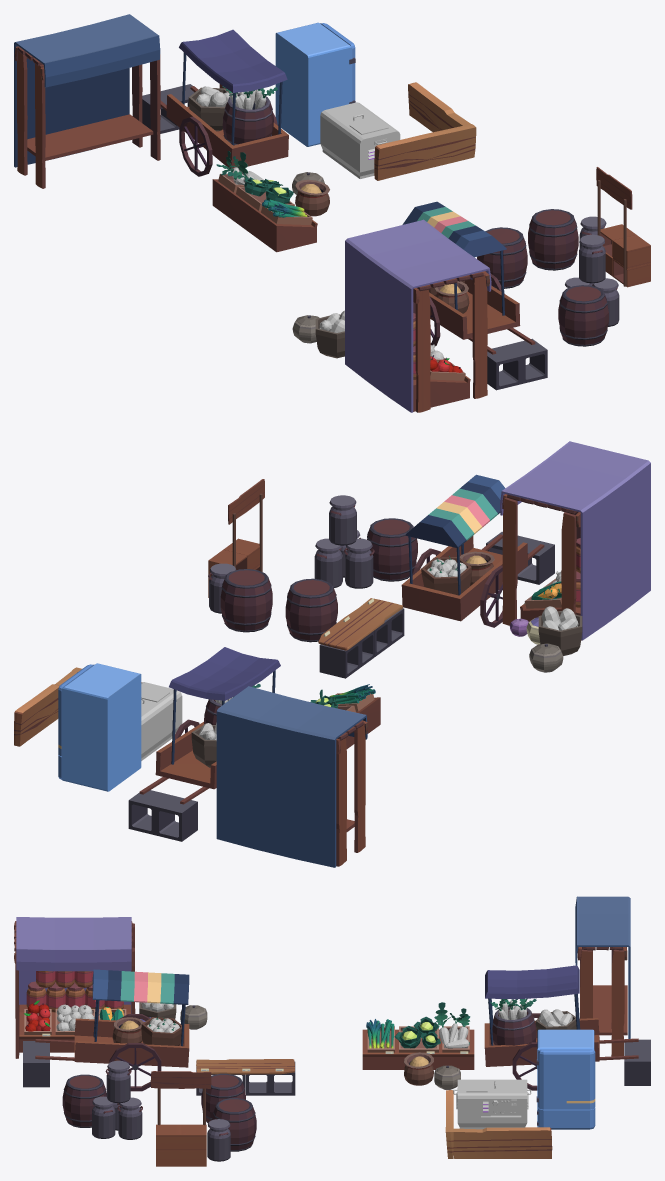
File: DBStandGrossCherie.fbx
The picture shows the model from 3 angles, top to bottom: view 1: azimuth 30°, elevation 25°; view 2: azimuth 150°, elevation 25°; view 3: azimuth 270°, elevation 25°; orthographic projection. The views are drawn at different scales.
Parts seen in each view (by area): view 1: Stand.020, Stand.021, Cube.5082, Awning.117, Wagon.007, MORPROCKS_Generator.009, StoreDisplay, planks.051, CrateStand, Wagon.006, Barrels, Barrels.002 (+15 smaller); view 2: Stand.021, Stand.020, Cube.5082, Wagon.006, planks.049, Awning.118, Awning.117, Barrels.002, Barrels.001, AP_Cinderblock_New.014, Wagon.007, Barrels (+14 smaller); view 3: Stand.020, Stand.021, Wagon.006, MORPROCKS_Generator.009, Cube.5083, CrateStand, Awning.118, planks.050, Awning.117, StoreDisplay, NutButterDisplay, planks.049 (+26 smaller).
Boxes of the visible parts, box(x1,y1,x2,y2) form: Stand.020: box(345, 219, 491, 412); Stand.021: box(14, 14, 160, 188); Cube.5082: box(275, 22, 355, 146); Awning.117: box(179, 29, 287, 145); Wagon.007: box(160, 84, 288, 176); MORPROCKS_Generator.009: box(320, 102, 400, 178); StoreDisplay: box(212, 173, 317, 252); planks.051: box(374, 124, 476, 180); CrateStand: box(596, 167, 650, 287); Wagon.006: box(429, 273, 535, 354); Barrels: box(558, 285, 608, 346); Barrels.002: box(528, 209, 578, 270); Stand.021: box(216, 686, 367, 867); Stand.020: box(500, 441, 650, 640); Cube.5082: box(62, 663, 141, 791); Wagon.006: box(401, 534, 544, 627); planks.049: box(318, 598, 404, 678); Awning.118: box(405, 474, 505, 595); Awning.117: box(169, 647, 280, 764); Barrels.002: box(220, 569, 272, 632); Barrels.001: box(285, 578, 337, 642); AP_Cinderblock_New.014: box(128, 790, 197, 841); Wagon.007: box(139, 719, 216, 804); Barrels: box(367, 518, 417, 581); Stand.020: box(14, 917, 135, 1058); Stand.021: box(575, 896, 630, 1056); Wagon.006: box(35, 1014, 189, 1091); MORPROCKS_Generator.009: box(453, 1079, 531, 1129); Cube.5083: box(538, 1049, 595, 1109); CrateStand: box(150, 1071, 211, 1166); Awning.118: box(92, 969, 189, 1046); planks.050: box(453, 1127, 552, 1158); Awning.117: box(485, 965, 580, 1045); StoreDisplay: box(362, 1026, 474, 1069); NutButterDisplay: box(26, 971, 123, 1012); planks.049: box(196, 1059, 295, 1095).
Bounding box in the file's own units: 1225 × 418 × 2104.
